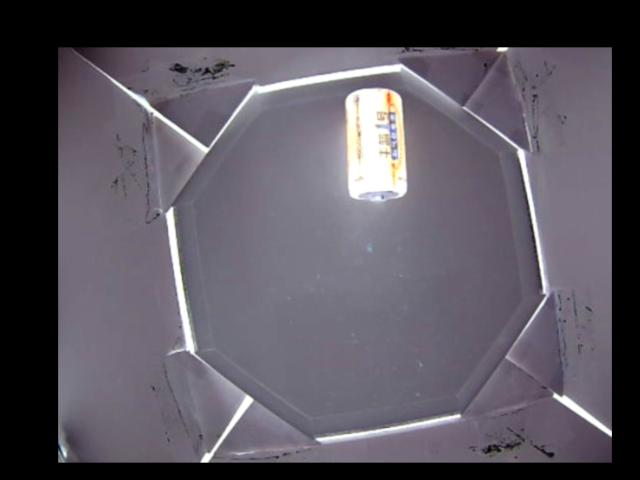Battery: (344, 88, 406, 202)
